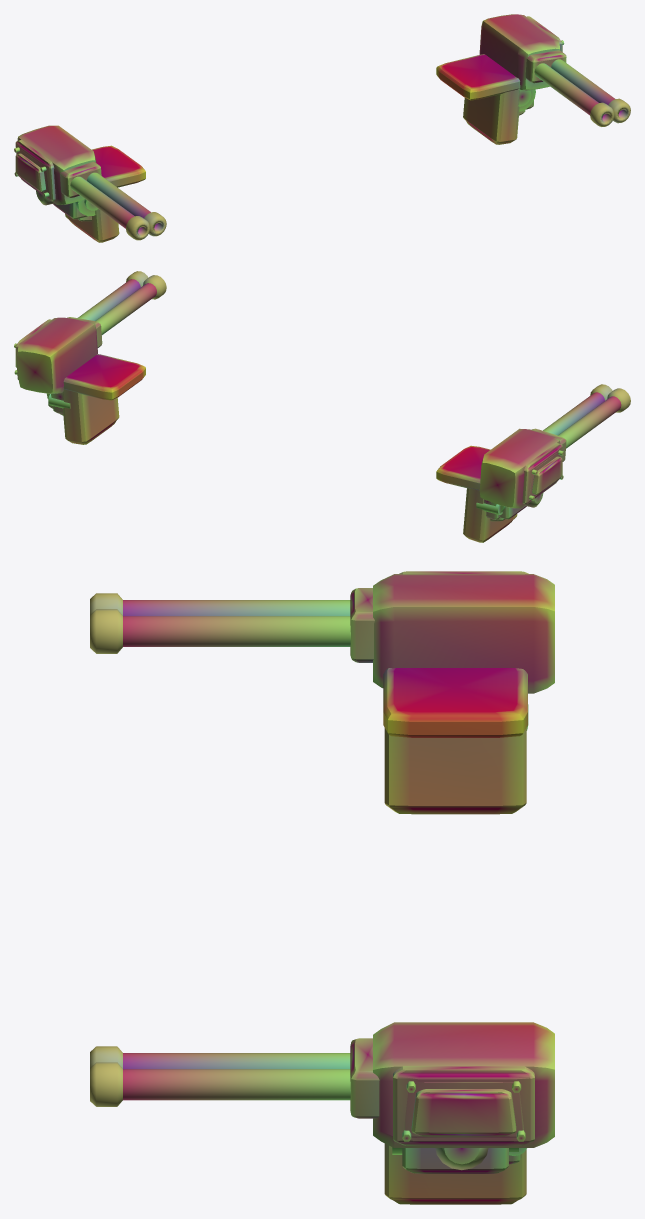
The model's file is llm_gen_shoulder_pods_073_ff3a54.glb.
3 views of the same model, one above another, from view 1: azimuth 30°, elevation 25°; view 2: azimuth 150°, elevation 25°; view 3: azimuth 270°, elevation 25° (orthographic). The views are drawn at different scales.
Parts seen in each view (by area): view 1: adapter_shoulder_yoke_r, cannon_cradle_1_cobalt_anodized_r, adapter_shoulder_yoke_l, cannon_cradle_1_cobalt_anodized_l, beam_barrel_in_3_barrel_metal_r, beam_barrel_out_4_barrel_metal_l, cannon_side_shroud_blue_8_adapter_dark_l, beam_barrel_in_3_barrel_metal_l, beam_barrel_out_4_barrel_metal_r, adapter_sub_heatsink_bezel_dark_7_adapter_dark_l, adapter_sub_mantlet_dark_2_adapter_dark_l, adapter_sub_mantlet_dark_2_adapter_dark_r (+4 smaller); view 2: adapter_shoulder_yoke_r, cannon_cradle_1_cobalt_anodized_r, cannon_cradle_1_cobalt_anodized_l, adapter_shoulder_yoke_l, beam_barrel_out_4_barrel_metal_l, beam_barrel_in_3_barrel_metal_r, cannon_side_shroud_blue_8_adapter_dark_l, beam_barrel_in_3_barrel_metal_l, beam_barrel_out_4_barrel_metal_r, adapter_sub_heatsink_bezel_dark_7_adapter_dark_l; view 3: adapter_shoulder_yoke_l, cannon_cradle_1_cobalt_anodized_l, cannon_cradle_1_cobalt_anodized_r, beam_barrel_out_4_barrel_metal_r, beam_barrel_in_3_barrel_metal_l, adapter_shoulder_yoke_r, cannon_side_shroud_blue_8_adapter_dark_r, adapter_sub_heatsink_bezel_dark_7_adapter_dark_r, beam_barrel_in_3_barrel_metal_r, beam_barrel_out_4_barrel_metal_l, adapter_sub_mantlet_dark_2_adapter_dark_r, adapter_sub_mantlet_dark_2_adapter_dark_l (+3 smaller).
Boxes of the visible parts, left/top/right/bottom form: adapter_shoulder_yoke_r: left=436, top=54, right=535, bottom=144; cannon_cradle_1_cobalt_anodized_r: left=479, top=14, right=560, bottom=90; adapter_shoulder_yoke_l: left=53, top=145, right=145, bottom=242; cannon_cradle_1_cobalt_anodized_l: left=17, top=125, right=96, bottom=204; beam_barrel_in_3_barrel_metal_r: left=534, top=63, right=598, bottom=115; beam_barrel_out_4_barrel_metal_l: left=70, top=176, right=134, bottom=228; cannon_side_shroud_blue_8_adapter_dark_l: left=14, top=147, right=49, bottom=197; beam_barrel_in_3_barrel_metal_l: left=87, top=172, right=150, bottom=218; beam_barrel_out_4_barrel_metal_r: left=551, top=59, right=614, bottom=104; adapter_sub_heatsink_bezel_dark_7_adapter_dark_l: left=15, top=139, right=55, bottom=201; adapter_sub_mantlet_dark_2_adapter_dark_l: left=60, top=161, right=101, bottom=197; adapter_sub_mantlet_dark_2_adapter_dark_r: left=525, top=50, right=566, bottom=83; adapter_shoulder_yoke_r: left=46, top=354, right=145, bottom=444; cannon_cradle_1_cobalt_anodized_r: left=17, top=317, right=97, bottom=393; cannon_cradle_1_cobalt_anodized_l: left=479, top=428, right=560, bottom=508; adapter_shoulder_yoke_l: left=436, top=445, right=526, bottom=542; beam_barrel_out_4_barrel_metal_l: left=558, top=396, right=621, bottom=448; beam_barrel_in_3_barrel_metal_r: left=95, top=283, right=156, bottom=335; cannon_side_shroud_blue_8_adapter_dark_l: left=528, top=450, right=563, bottom=500; beam_barrel_in_3_barrel_metal_l: left=543, top=392, right=604, bottom=435; beam_barrel_out_4_barrel_metal_r: left=78, top=279, right=140, bottom=320; adapter_sub_heatsink_bezel_dark_7_adapter_dark_l: left=522, top=443, right=562, bottom=504; adapter_shoulder_yoke_l: left=383, top=668, right=527, bottom=814; cannon_cradle_1_cobalt_anodized_l: left=373, top=574, right=554, bottom=693; cannon_cradle_1_cobalt_anodized_r: left=373, top=1022, right=554, bottom=1147; beam_barrel_out_4_barrel_metal_r: left=123, top=1069, right=350, bottom=1100; beam_barrel_in_3_barrel_metal_l: left=123, top=616, right=350, bottom=646; adapter_shoulder_yoke_r: left=384, top=1143, right=526, bottom=1204; cannon_side_shroud_blue_8_adapter_dark_r: left=402, top=1081, right=525, bottom=1141; adapter_sub_heatsink_bezel_dark_7_adapter_dark_r: left=393, top=1066, right=534, bottom=1145; beam_barrel_in_3_barrel_metal_r: left=123, top=1053, right=350, bottom=1068; beam_barrel_out_4_barrel_metal_l: left=123, top=600, right=350, bottom=615; adapter_sub_mantlet_dark_2_adapter_dark_r: left=350, top=1038, right=379, bottom=1118; adapter_sub_mantlet_dark_2_adapter_dark_l: left=350, top=588, right=374, bottom=662.
Bounding box in the file's own units: 109 × 18.93 × 41.83.
